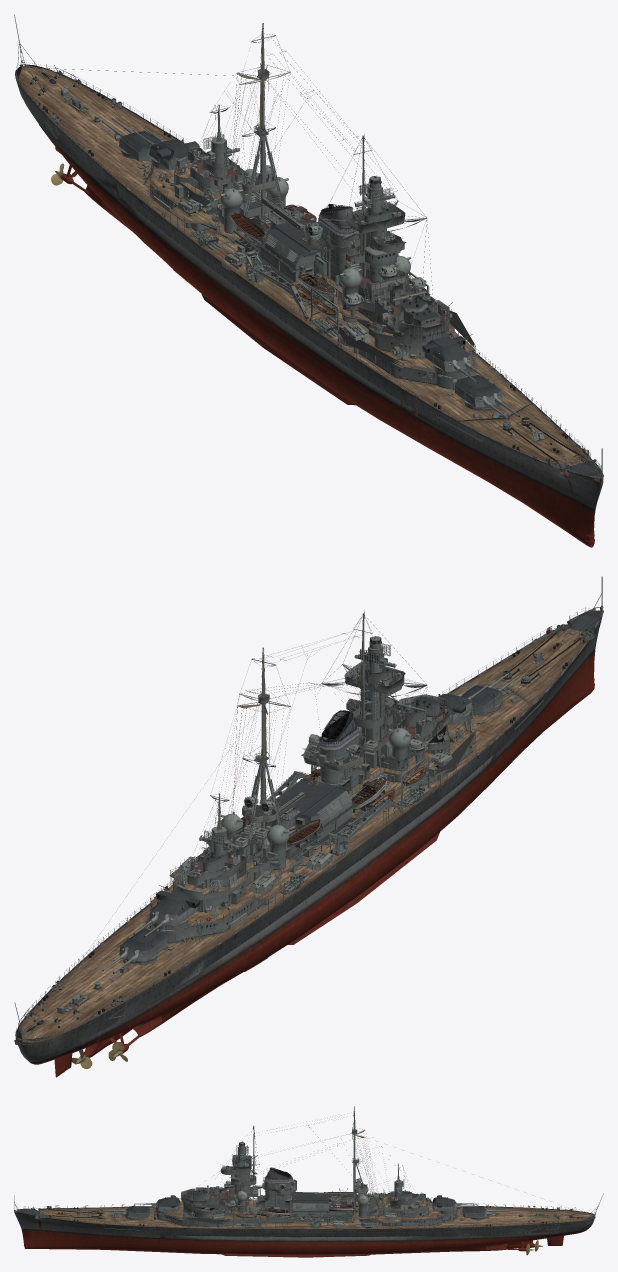
File: admiral_hipper-maximum-compressed.glb
3 views of the same model, one above another, from view 1: azimuth 30°, elevation 25°; view 2: azimuth 150°, elevation 25°; view 3: azimuth 270°, elevation 25° (orthographic). The views are drawn at different scales.
Parts seen in each view (by area): view 1: Object_80, Object_78, Object_79, Object_81, Object_85, Object_82, Object_56, Object_55, Object_83, Object_84, Object_45, Object_4; view 2: Object_80, Object_79, Object_81, Object_78, Object_85, Object_82, Object_55, Object_56, Object_83, Object_84, Object_45, Object_20; view 3: Object_80, Object_78, Object_79, Object_81, Object_85, Object_82, Object_56, Object_55, Object_83, Object_84, Object_20, Object_45 (+1 smaller).
Part boxes in pixels (x1,y1,x2,y2): Object_80: [199, 23, 500, 446]; Object_78: [413, 374, 603, 547]; Object_79: [89, 104, 269, 295]; Object_81: [14, 14, 173, 207]; Object_85: [24, 25, 500, 400]; Object_82: [174, 147, 286, 233]; Object_56: [133, 127, 488, 383]; Object_55: [102, 118, 519, 419]; Object_83: [241, 178, 388, 320]; Object_84: [90, 105, 601, 475]; Object_45: [220, 177, 411, 287]; Object_4: [262, 190, 304, 229]; Object_80: [237, 613, 500, 944]; Object_79: [90, 793, 300, 1023]; Object_81: [14, 951, 173, 1077]; Object_78: [447, 576, 603, 784]; Object_85: [27, 610, 500, 1037]; Object_82: [174, 832, 285, 911]; Object_55: [102, 672, 519, 973]; Object_56: [133, 682, 488, 937]; Object_83: [242, 763, 403, 856]; Object_84: [90, 607, 601, 970]; Object_45: [221, 726, 411, 844]; Object_20: [310, 768, 386, 812]; Object_80: [154, 1106, 372, 1257]; Object_78: [14, 1195, 159, 1251]; Object_79: [357, 1163, 486, 1254]; Object_81: [471, 1193, 603, 1251]; Object_85: [159, 1112, 395, 1229]; Object_82: [358, 1190, 429, 1217]; Object_56: [134, 1195, 478, 1211]; Object_55: [102, 1205, 509, 1218]; Object_83: [257, 1185, 366, 1228]; Object_84: [23, 1164, 486, 1228]; Object_20: [257, 1195, 290, 1215]; Object_45: [236, 1183, 368, 1204].
Bounding box in the file's own units: 15.24 × 37.25 × 139.
54 materials, 52 textured.
